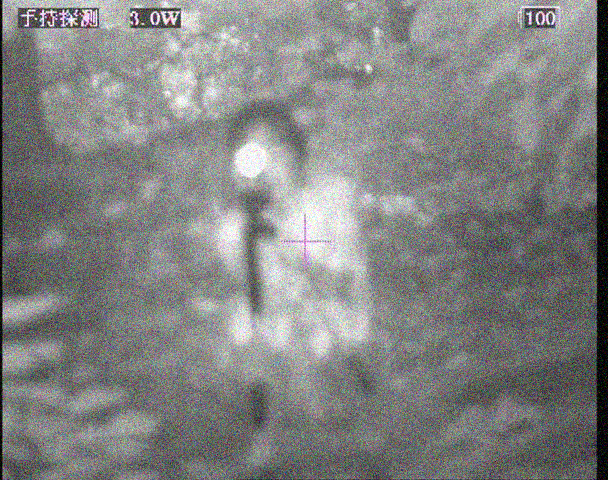my: (231, 141, 270, 177)
